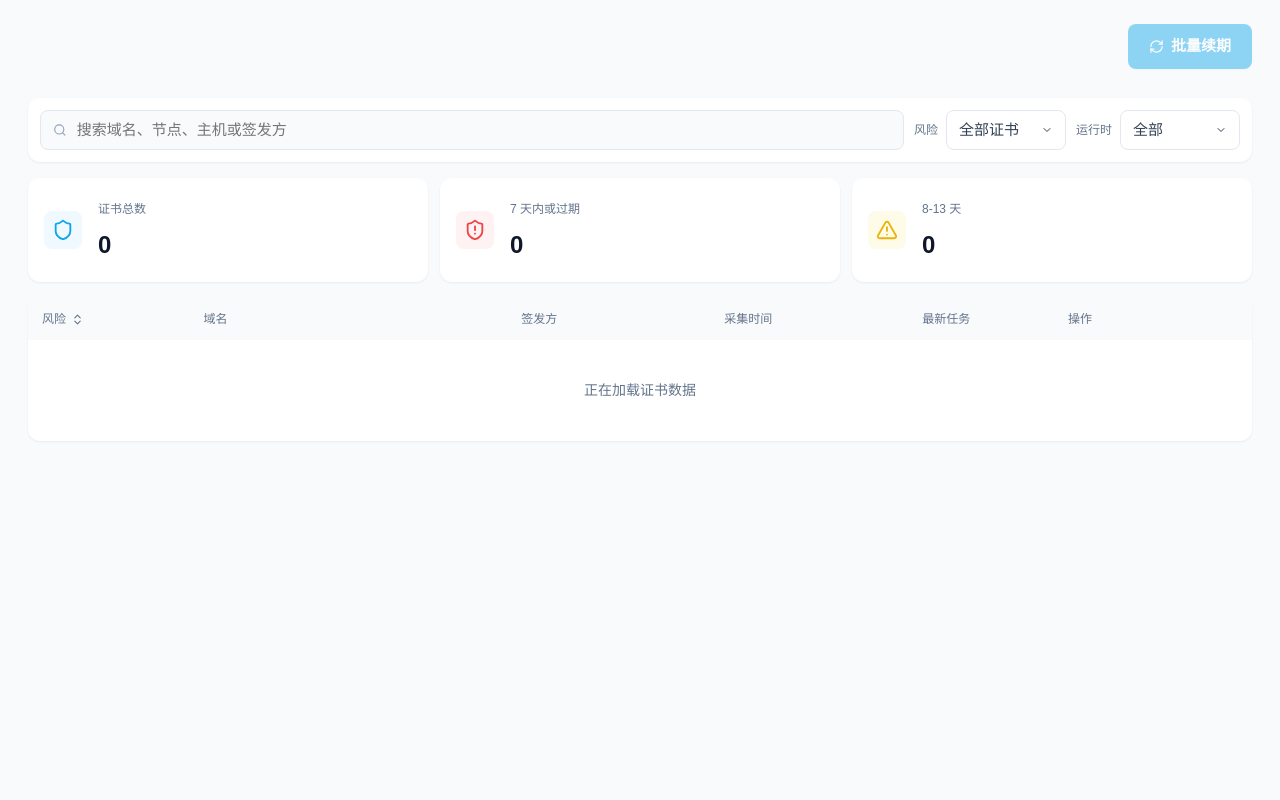
sites live monitoring page › bulk renewal ignores active filters and reports executable and skipped counts
Step 1. Type "skip.example.com" into the field with placeholder "搜索域名、节点、主机或签发方" → (483, 130), box [75,118,891,142]
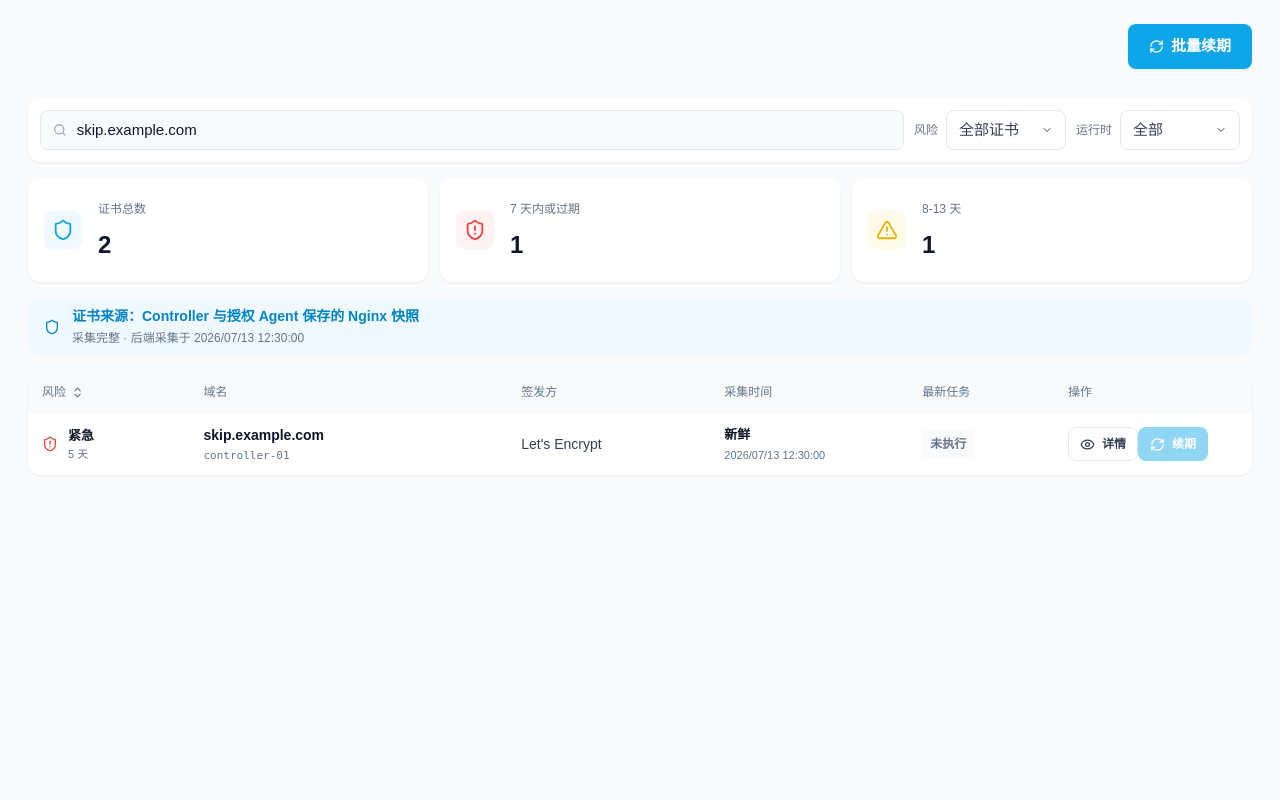
Step 2. Click the button "批量续期" → (1190, 46), box [1128,24,1252,68]
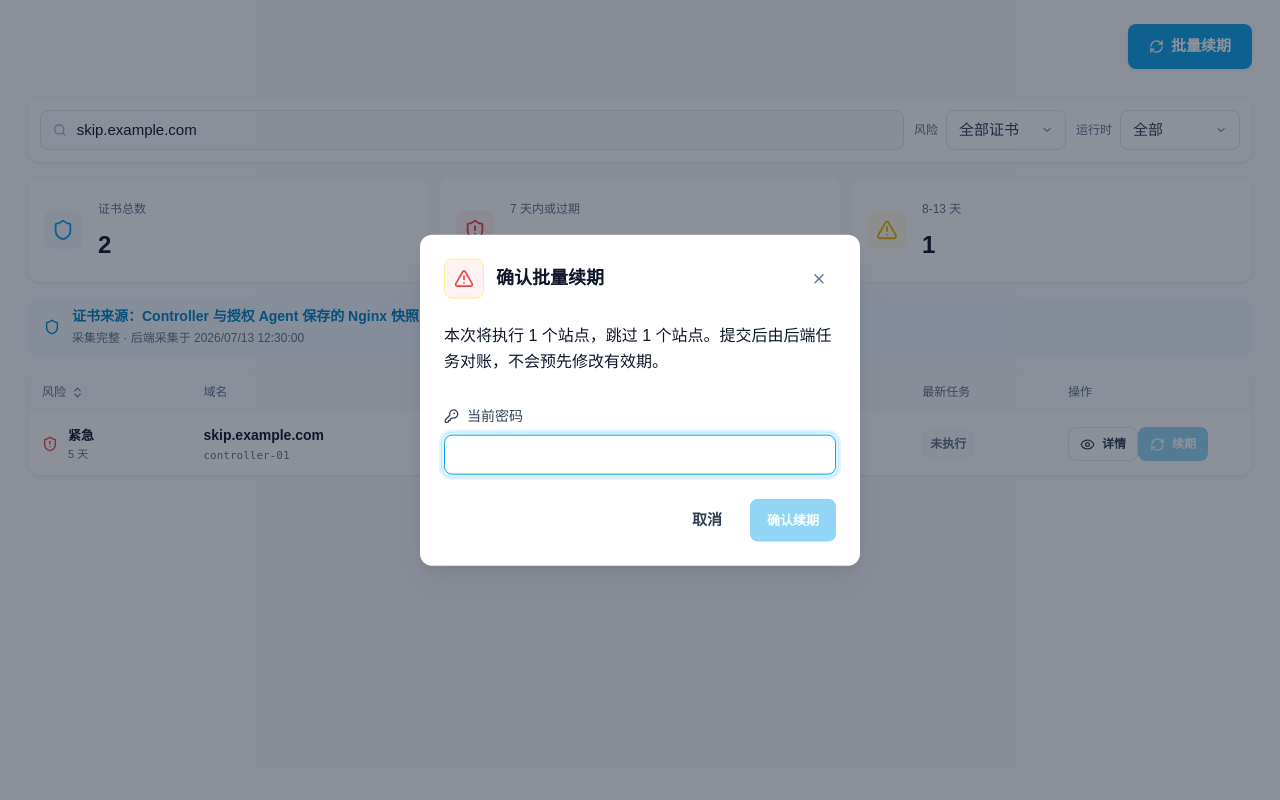
Expected: the text "本次将执行 1 个站点，跳过 1 个站点。提交后由后端任务对账，不会预先修改有效期。" is shown, [444,323,836,374]
